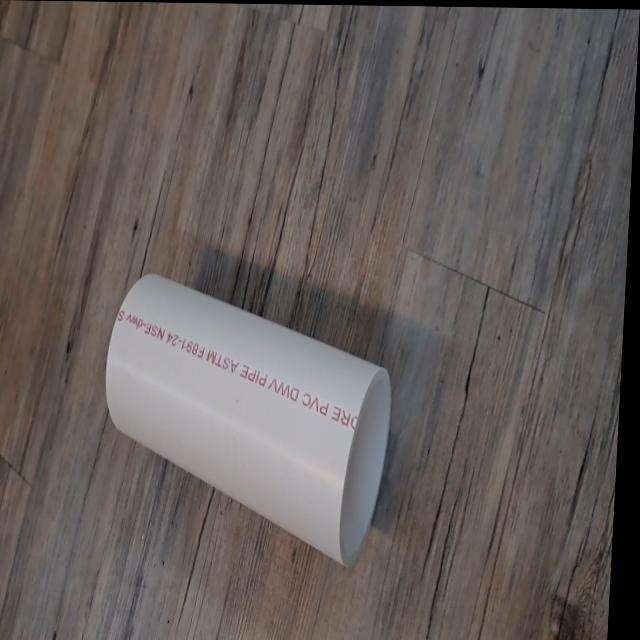CORAL: (75, 242, 439, 589)
